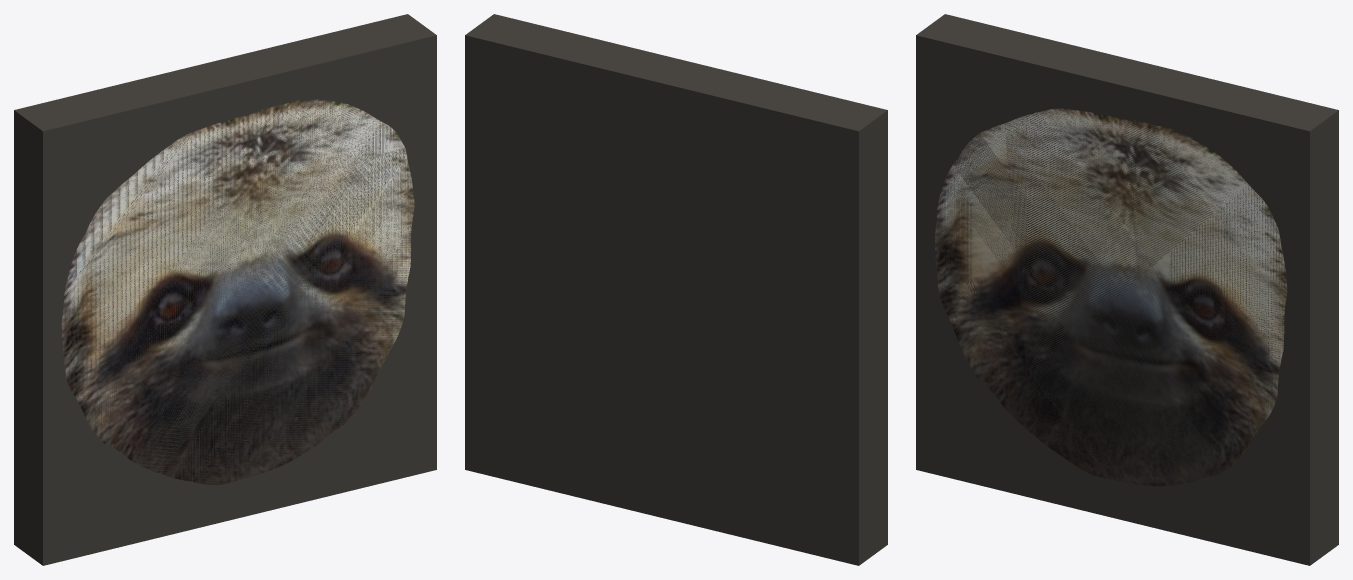
File: SlothTrans.dae
3 views of the same model, side by side, from view 1: azimuth 30°, elevation 25°; view 2: azimuth 150°, elevation 25°; view 3: azimuth 330°, elevation 25° (orthographic).
Parts seen in each view (by area): view 1: Component_2 (×3); view 2: Component_2 (×2); view 3: Component_2 (×3).
Part boxes in pixels (left/top/right/bottom): Component_2 (×3): left=14, top=14, right=436, bottom=565; Component_2 (×2): left=465, top=14, right=887, bottom=565; Component_2 (×3): left=916, top=14, right=1338, bottom=565.
Size of the model in its own units: 7.24 by 0.9253 by 7.64.
2 materials, 1 textured.
